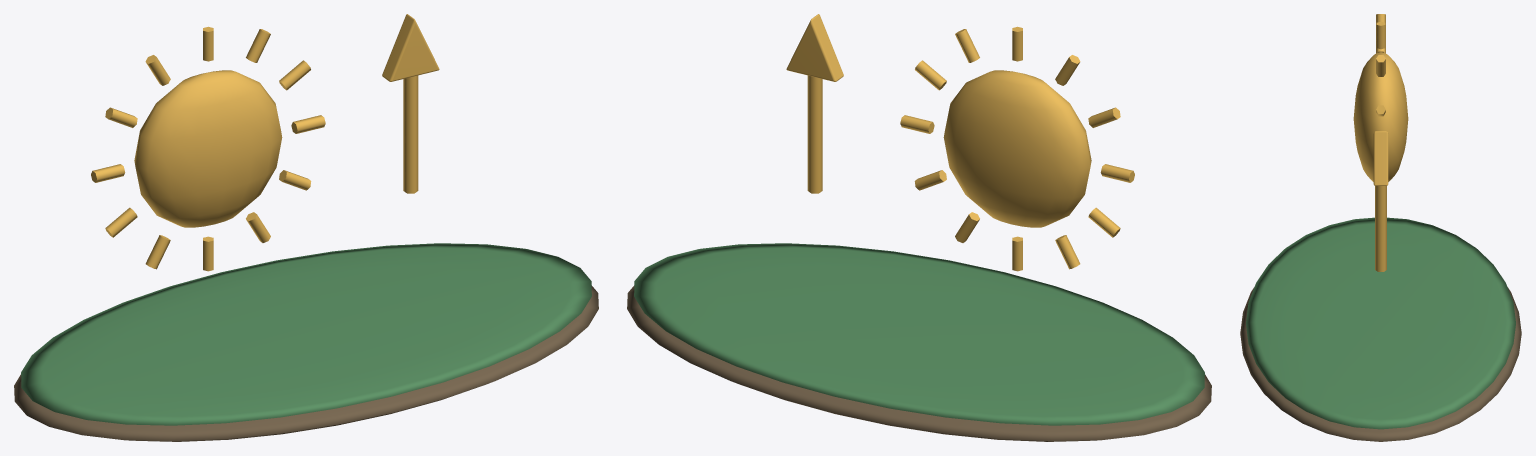
Rendered from morning-rise.glb.
3 views of the same model, side by side, from view 1: azimuth 30°, elevation 25°; view 2: azimuth 150°, elevation 25°; view 3: azimuth 270°, elevation 25° (orthographic). The views are drawn at different scales.
Parts seen in each view (by area): view 1: morning-rise_surface_01, morning-rise_surface_02, morning-rise_surface_00; view 2: morning-rise_surface_01, morning-rise_surface_02, morning-rise_surface_00; view 3: morning-rise_surface_01, morning-rise_surface_02, morning-rise_surface_00.
Boxes of the visible parts, left/top/right/bottom form: morning-rise_surface_01: left=21, top=243, right=591, bottom=425; morning-rise_surface_02: left=91, top=14, right=439, bottom=271; morning-rise_surface_00: left=14, top=285, right=598, bottom=441; morning-rise_surface_01: left=634, top=243, right=1204, bottom=425; morning-rise_surface_02: left=786, top=14, right=1134, bottom=271; morning-rise_surface_00: left=627, top=285, right=1211, bottom=441; morning-rise_surface_01: left=1246, top=217, right=1515, bottom=429; morning-rise_surface_02: left=1353, top=14, right=1408, bottom=271; morning-rise_surface_00: left=1240, top=287, right=1521, bottom=441.
Size of the model in its own units: 4.56 by 2.79 by 2.5.
